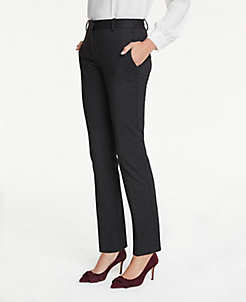feet: (74, 240, 161, 290)
